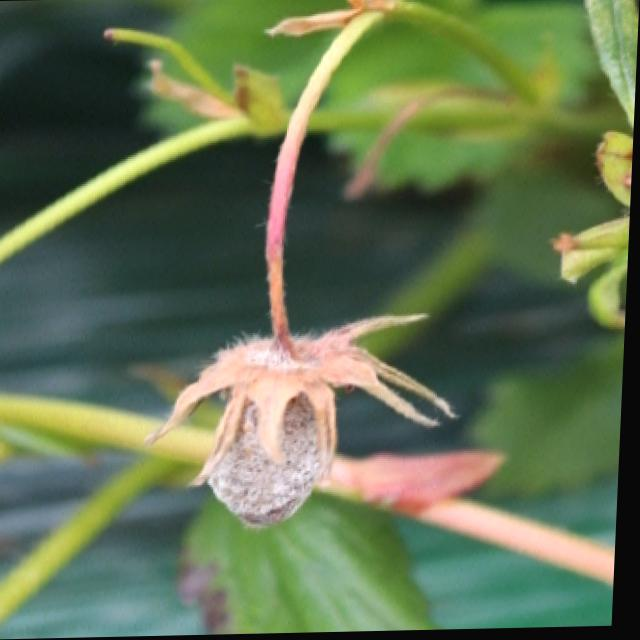Gray Mold: (154, 299, 463, 530)
